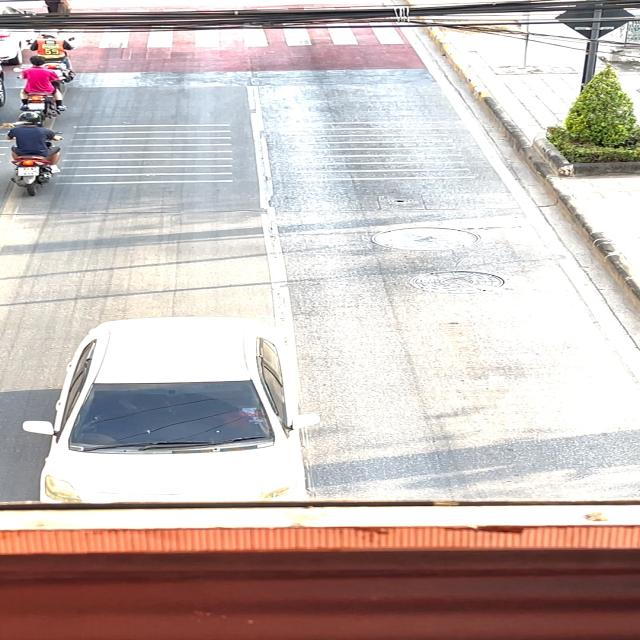car: (16, 292, 314, 506)
